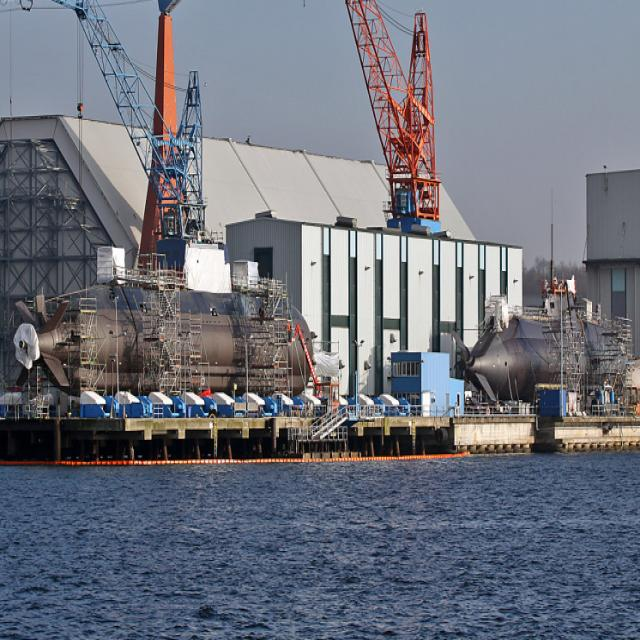submarine: (19, 276, 313, 392), (472, 281, 638, 404)
